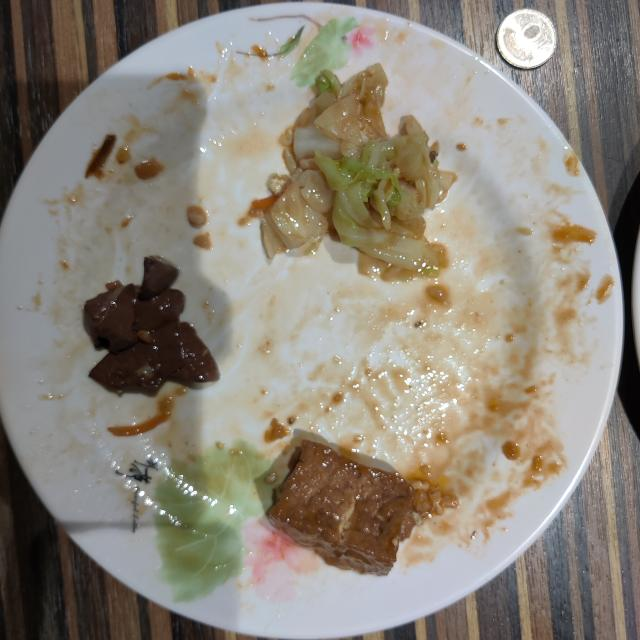cabbage: (261, 64, 456, 279)
coin: (496, 9, 556, 69)
egg tofu: (268, 440, 458, 575)
pig blood curd: (84, 256, 219, 392)
